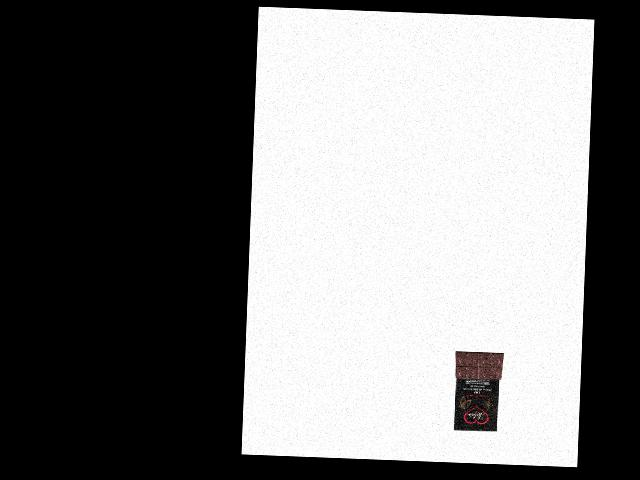chocolate: (451, 347, 507, 432)
